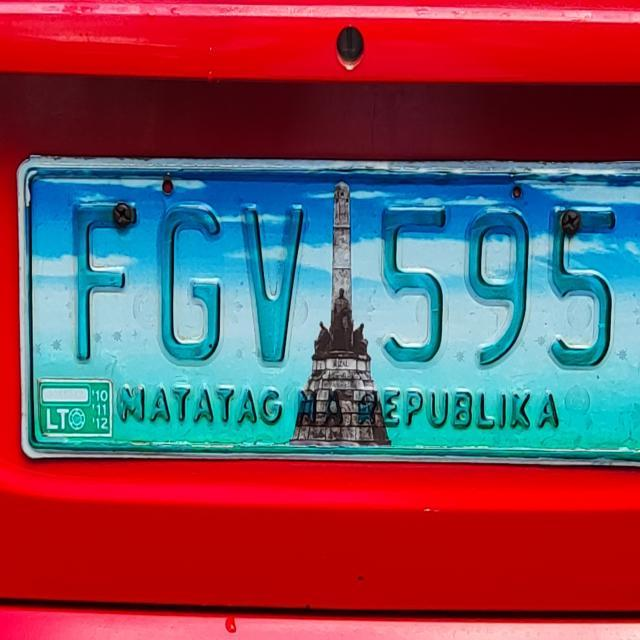LicensePlate: (5, 140, 640, 477)
